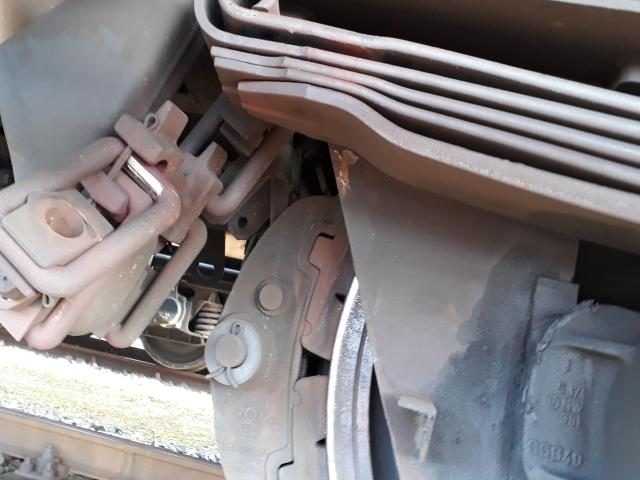blattfederww: (176, 4, 640, 222)
